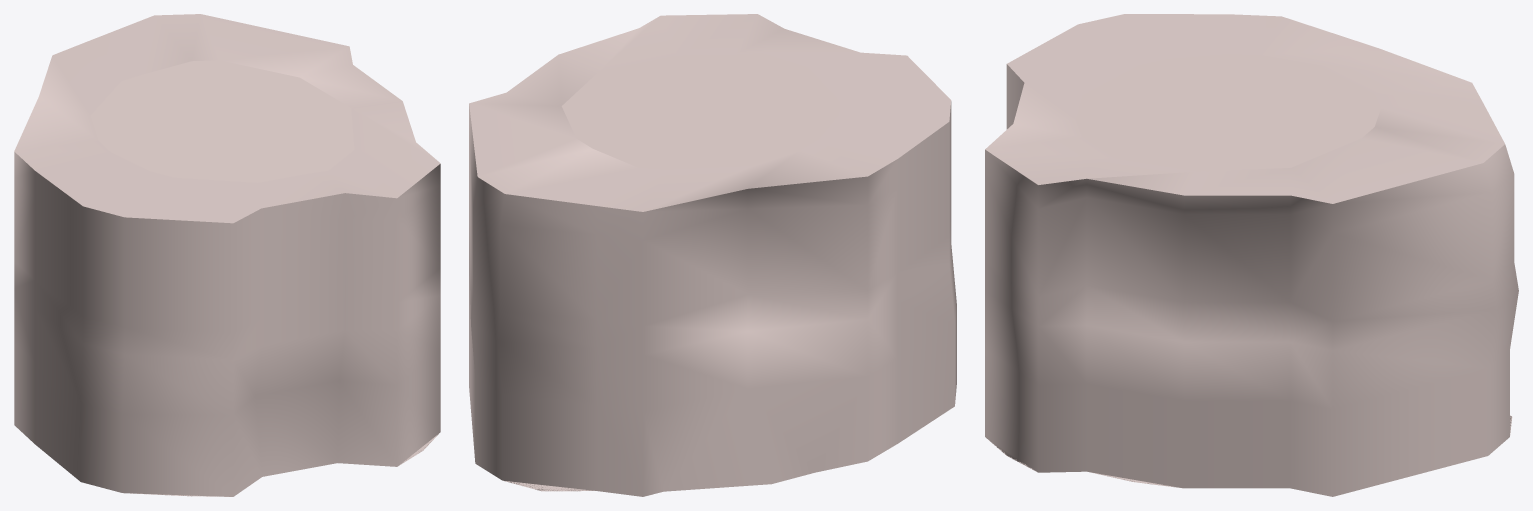
The model's file is stone_chair.fbx.
The picture shows the model from 3 angles, left to right: view 1: azimuth 30°, elevation 25°; view 2: azimuth 150°, elevation 25°; view 3: azimuth 270°, elevation 25°; orthographic projection. The views are drawn at different scales.
Parts seen in each view (by area): view 1: stone_chair3; view 2: stone_chair3; view 3: stone_chair3.
Boxes of the visible parts, x1,y1,x2,y2 form: stone_chair3: (14,14,440,496); stone_chair3: (469,14,956,496); stone_chair3: (985,14,1518,496).
Size of the model in its own units: 0.0221 by 0.016 by 0.026.
